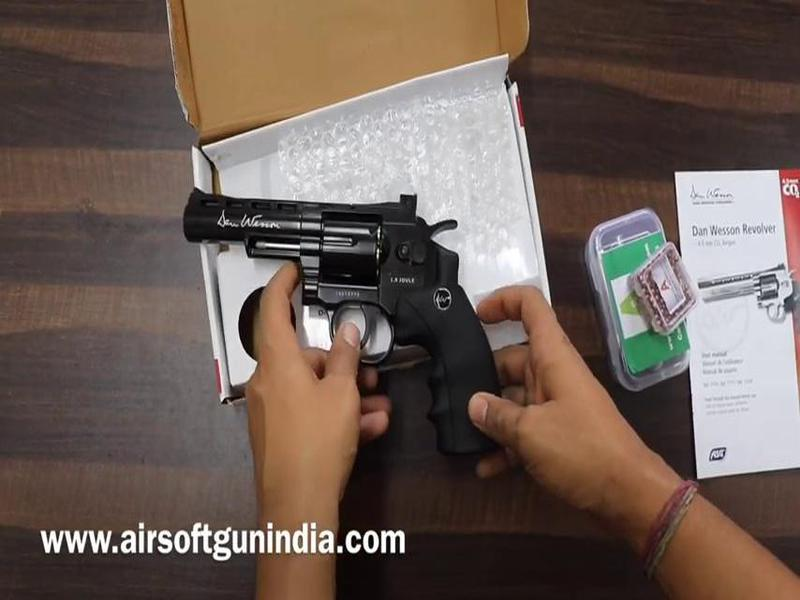Revolver: (163, 176, 521, 450)
